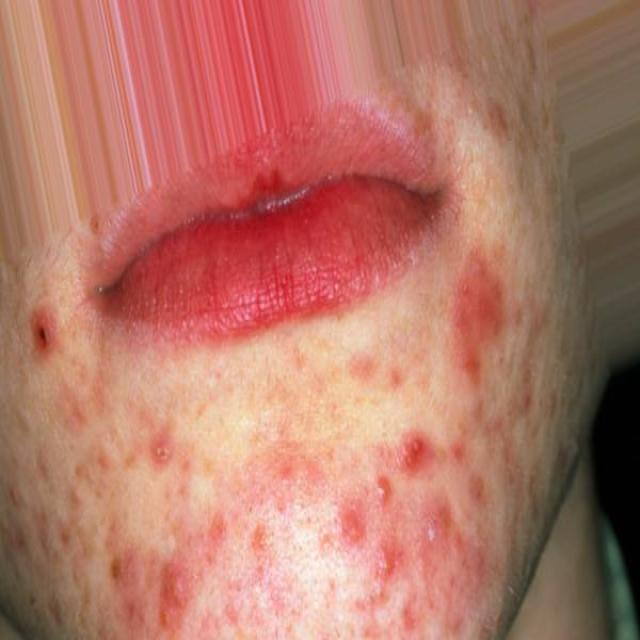acne: (450, 248, 522, 388), (153, 558, 229, 632), (24, 291, 80, 369), (336, 474, 376, 582), (366, 430, 428, 498), (101, 522, 143, 593)
